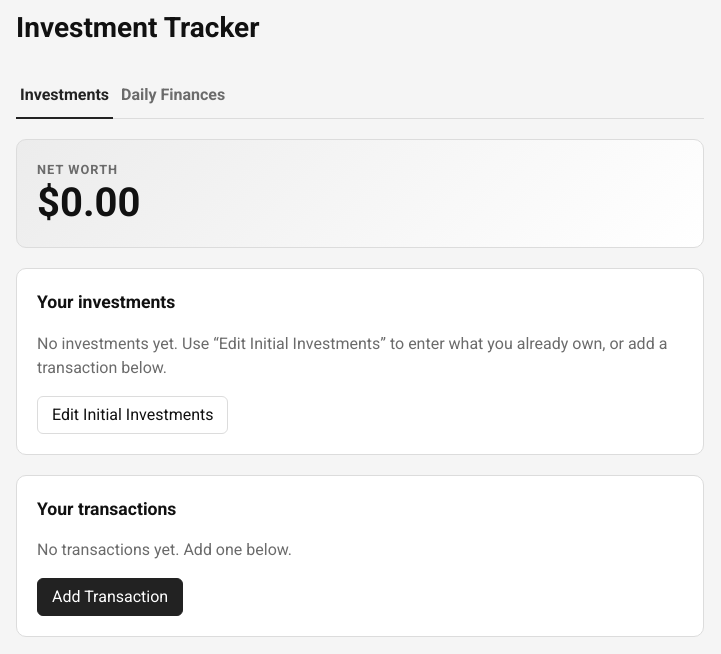
Scenario: the daily finances tab › shows an empty state when there is nothing
This screenshot has width=721, height=654.
Step 1. Click the tab "Daily Finances" → coordinates (173, 96), box [117,73,229,119]
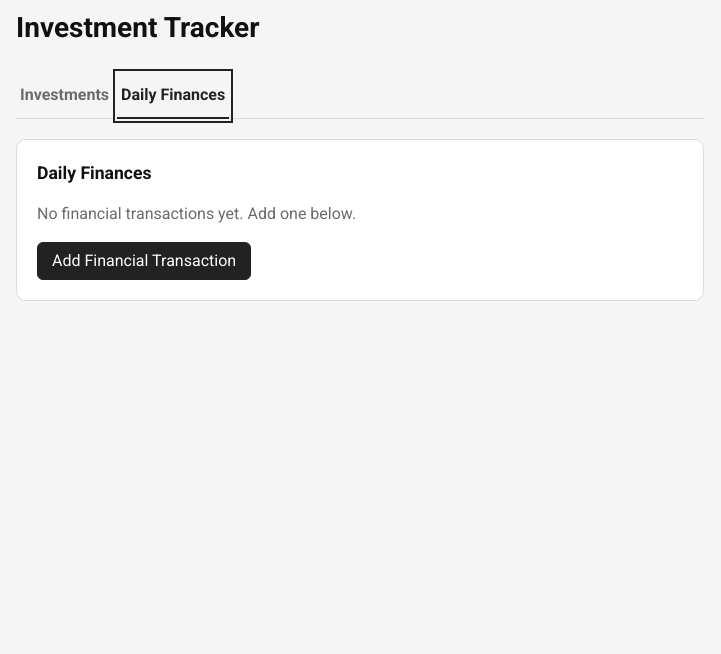
expect the text "No financial transactions yet. Add one below." is shown: met, box [37,204,356,223]
